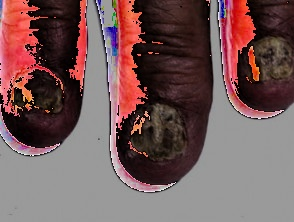Nail_psoriasis: (0, 42, 94, 148), (114, 96, 194, 171), (232, 31, 294, 95)
